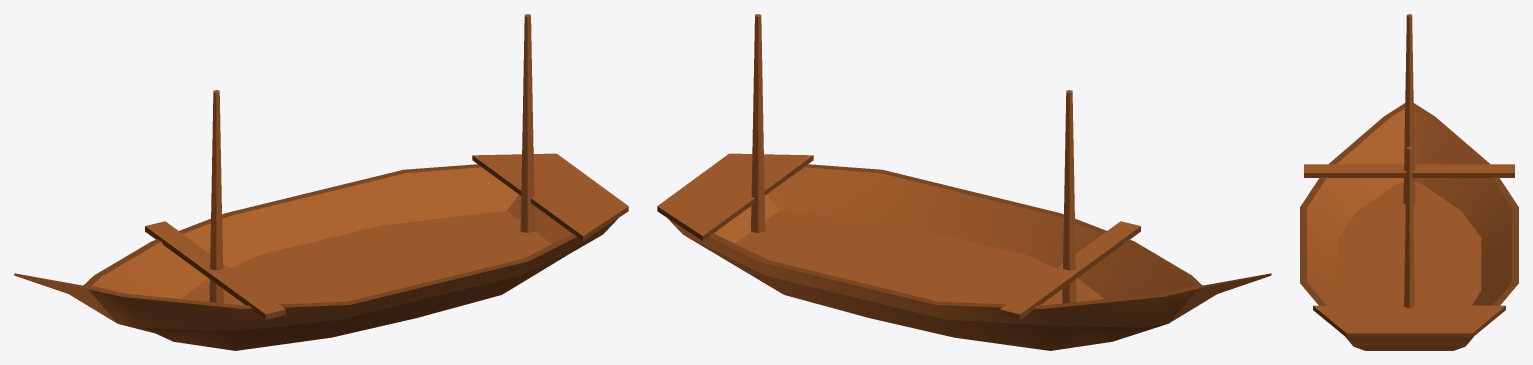
File: SushiLoveBoat.fbx
The picture shows the model from 3 angles, left to right: view 1: azimuth 30°, elevation 25°; view 2: azimuth 150°, elevation 25°; view 3: azimuth 270°, elevation 25°; orthographic projection. The views are drawn at different scales.
Visible parts, largest first — view 1: SushiLoveBoat; view 2: SushiLoveBoat; view 3: SushiLoveBoat.
Boxes of the visible parts, bbox=[...] form: SushiLoveBoat: bbox=[14, 14, 628, 350]; SushiLoveBoat: bbox=[657, 14, 1271, 350]; SushiLoveBoat: bbox=[1300, 14, 1518, 350].
Size of the model in its own units: 106 by 40.91 by 39.59.
